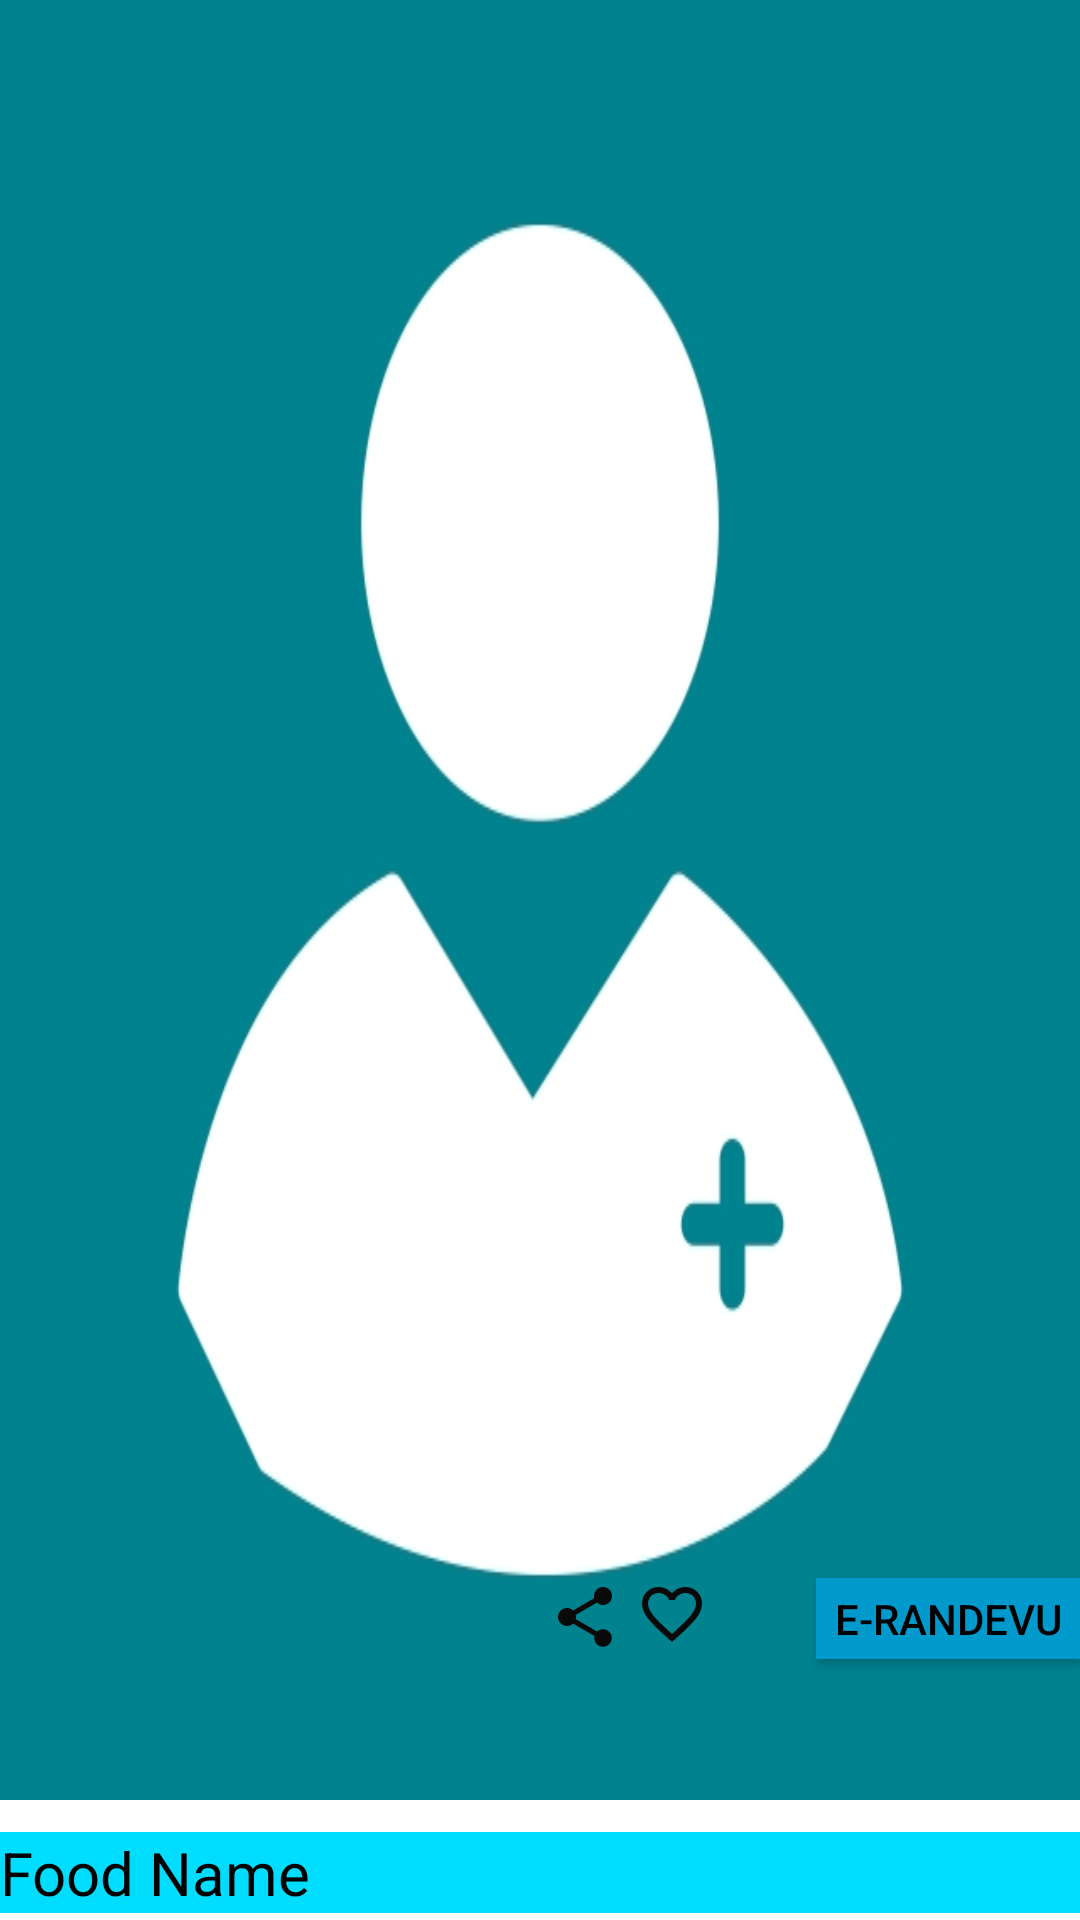

Where icons sit on this 1080w x 1920h app screen, as (x1, y1, x2, y2):
favorite border: (642, 1587, 702, 1642)
share: (558, 1587, 612, 1647)
